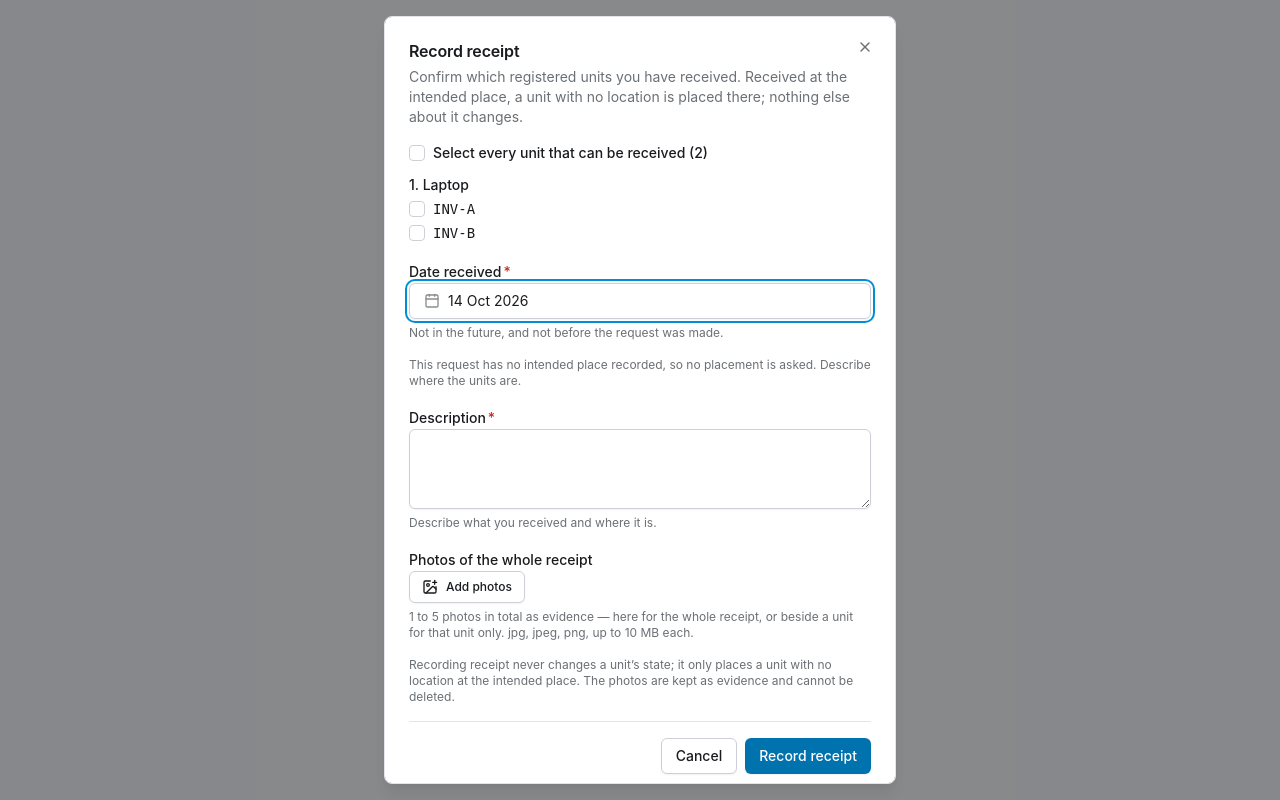
Record receipt — photos of each unit › offers a unit’s own photos only once the unit is selected
Click the checkbox labelled "INV-A": point(417, 209) [409,201,425,217]
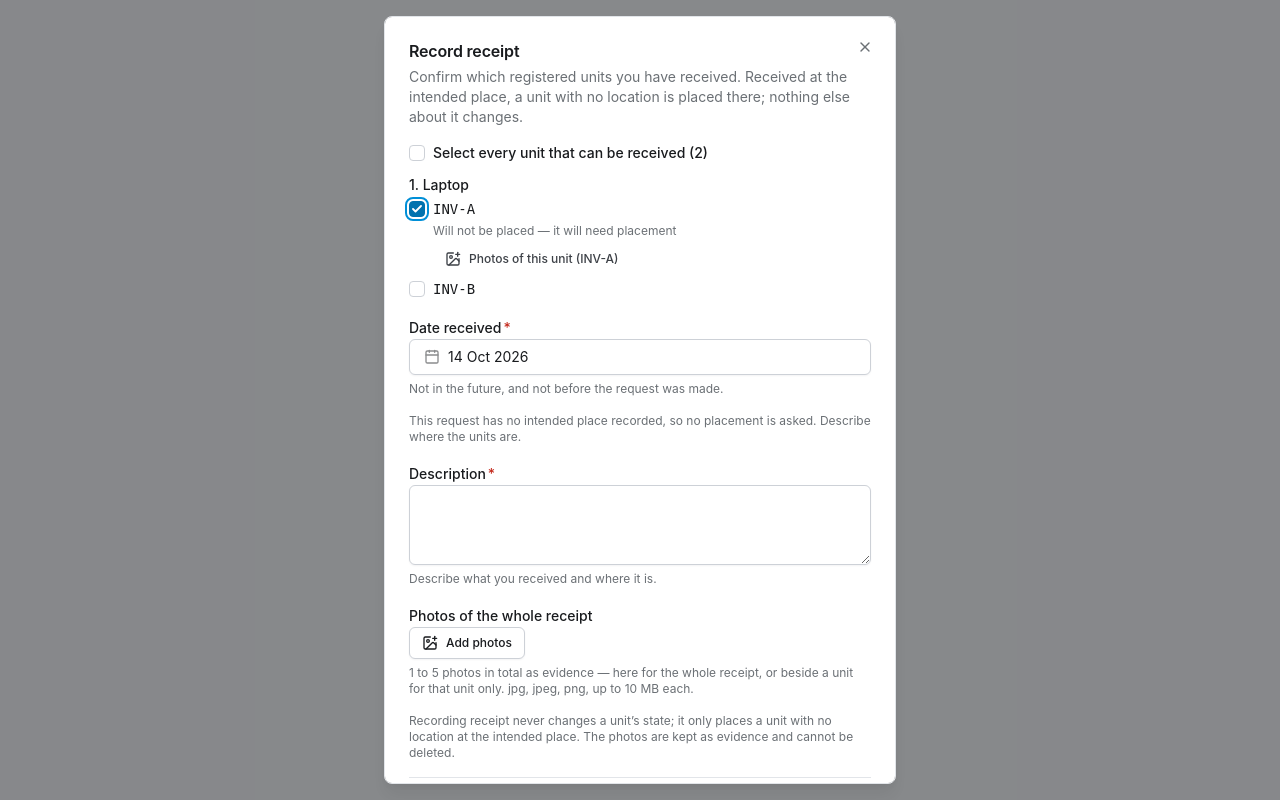
Check: the element labelled "Photos of this unit (INV-A)" is shown, box [433,243,630,275]
